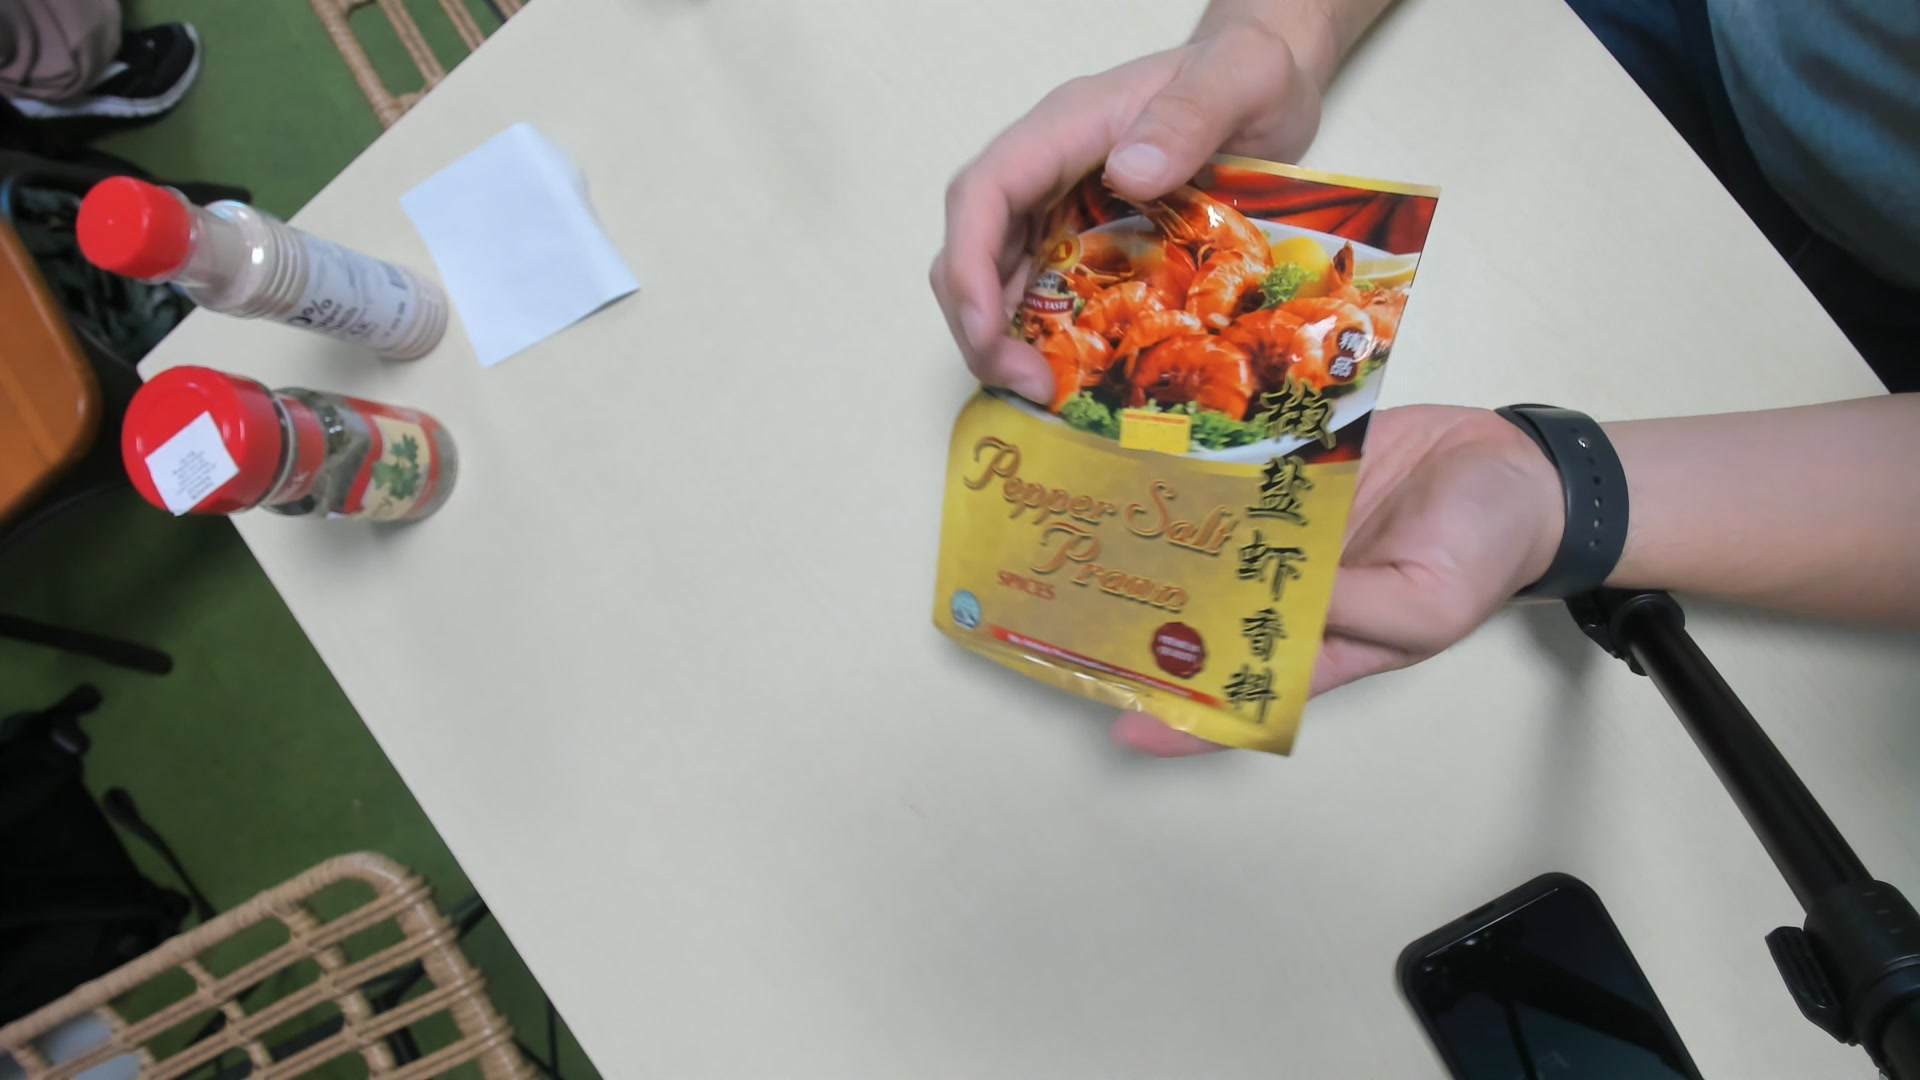HerbsSpicesPepper_400-499g_Halal_NonHealthy: (942, 152, 1418, 758)
